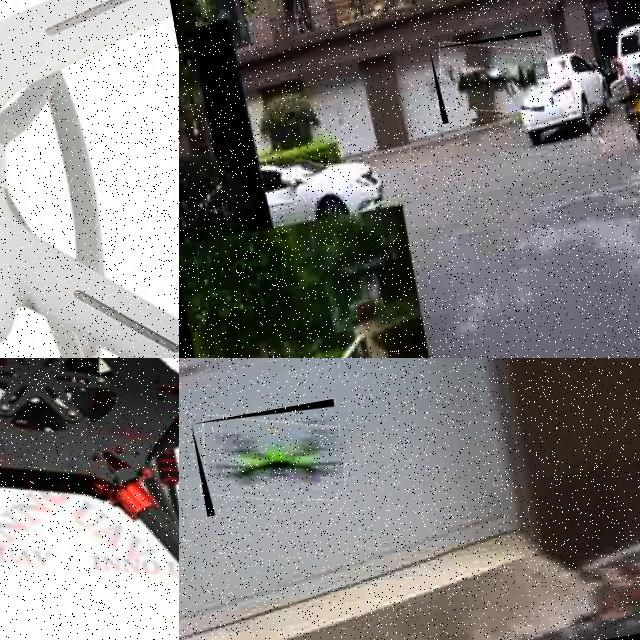0: (191, 398, 349, 516), (429, 30, 554, 124)
drone: (0, 0, 179, 358), (0, 358, 179, 640)
